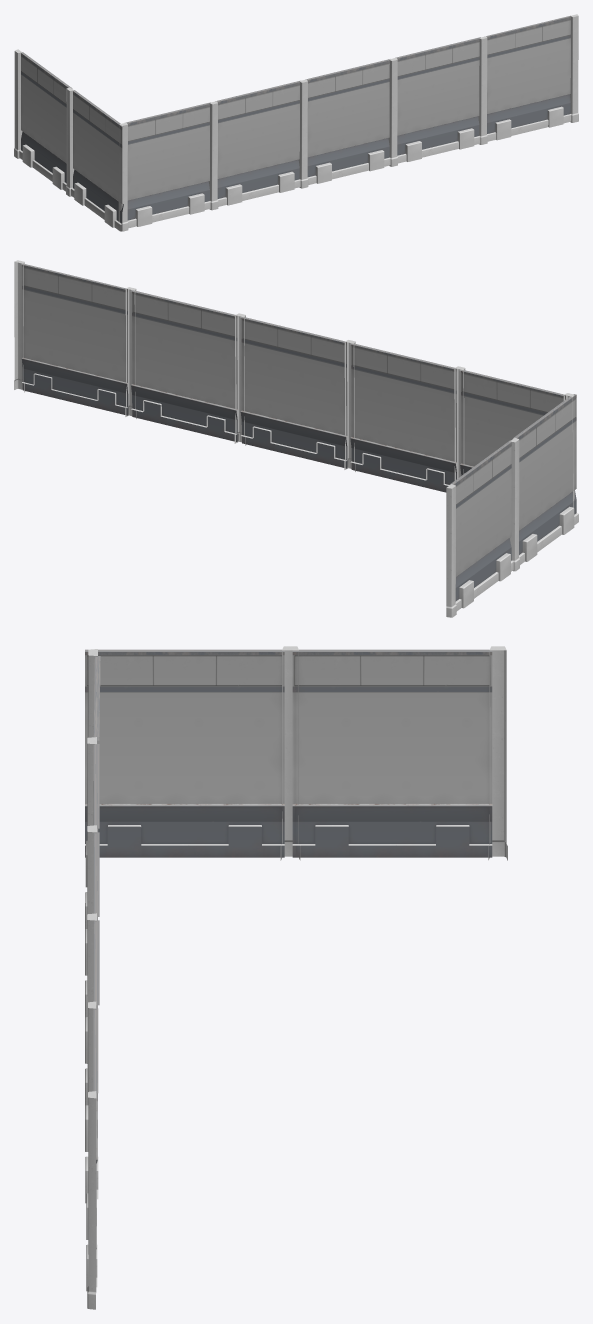
The model's file is Pfb_JALB_WallPart2_Line__19.fbx.
3 views of the same model, one above another, from view 1: azimuth 30°, elevation 25°; view 2: azimuth 150°, elevation 25°; view 3: azimuth 270°, elevation 25° (orthographic). The views are drawn at different scales.
Visible parts, largest first — view 1: MAT_JLABWall; view 2: MAT_JLABWall; view 3: MAT_JLABWall.
Part boxes in pixels (x1,y1,x2,y2): MAT_JLABWall: (14,14,578,231); MAT_JLABWall: (14,260,578,617); MAT_JLABWall: (85,646,507,1309).
Bounding box in the file's own units: 18.51 × 4.09 × 7.34.
1 material, 1 textured.
